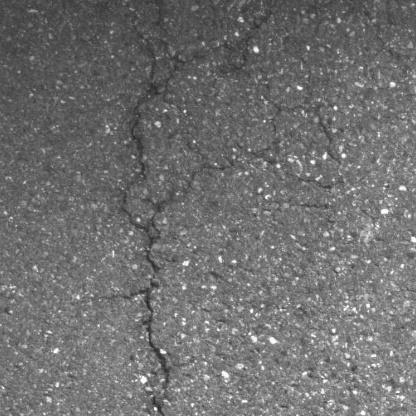Cracks: (118, 11, 187, 416), (250, 81, 346, 170), (185, 153, 240, 193), (292, 172, 337, 194)
